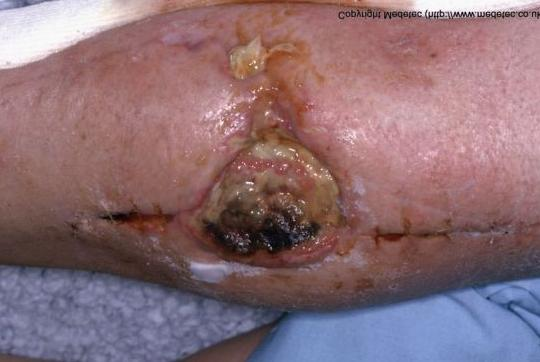NonPU: (74, 20, 514, 292)
